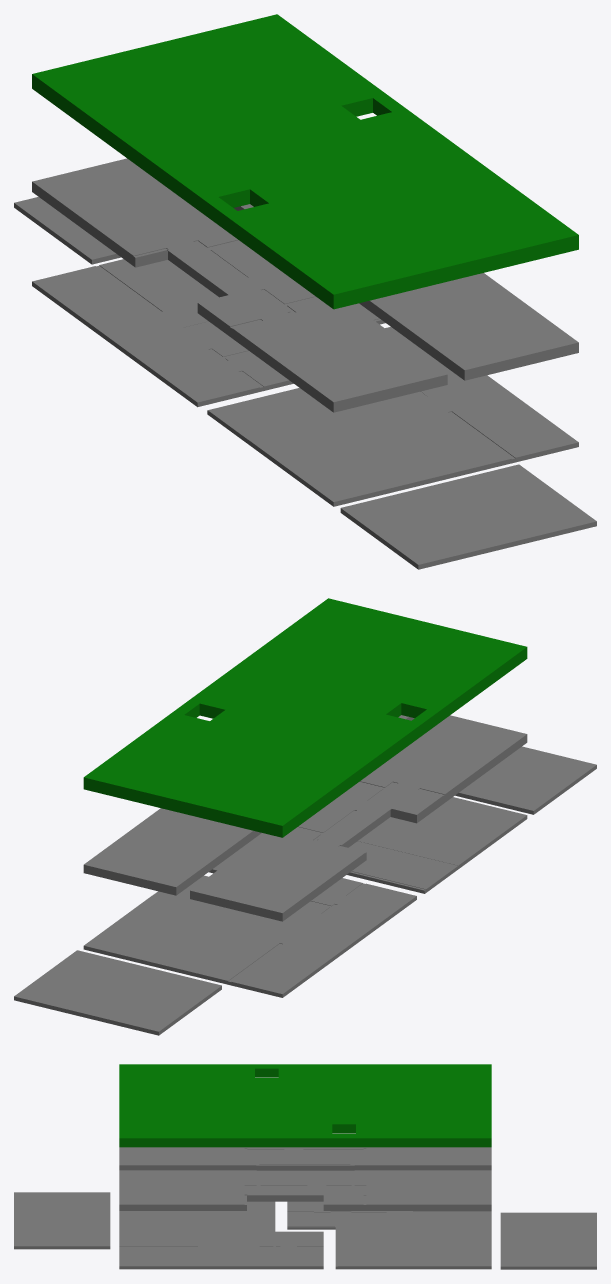
Rendered from IfcSlab.fbx.
3 renders of one model, top to bottom at view 1: azimuth 30°, elevation 25°; view 2: azimuth 150°, elevation 25°; view 3: azimuth 270°, elevation 25°, orthographic. The views are drawn at different scales.
Parts seen in each view (by area): view 1: Basic Roof:184483, Floor:170352, Floor:216552, Floor:171292, Floor:169354, Floor:169308, Floor:169093, Floor:144800, Floor:170785, Floor:169395, Floor:216507, Floor:169772 (+5 smaller); view 2: Basic Roof:184483, Floor:171292, Floor:216507, Floor:169093, Floor:169188, Floor:169354, Floor:170352, Floor:216552, Floor:144800, Floor:170785, Floor:169395, Floor:141232 (+5 smaller); view 3: Basic Roof:184483, Floor:170352, Floor:171292, Floor:216507, Floor:216552, Floor:169188, Floor:169308, Floor:144872, Floor:171444, Floor:144800, Floor:169093, Floor:169354 (+9 smaller).
Part boxes in pixels (left/top/right/bottom): Basic Roof:184483: left=32, top=14, right=578, bottom=309; Floor:170352: left=248, top=327, right=578, bottom=502; Floor:216552: left=340, top=464, right=596, bottom=569; Floor:171292: left=32, top=259, right=259, bottom=402; Floor:169354: left=232, top=298, right=447, bottom=402; Floor:169308: left=369, top=273, right=578, bottom=370; Floor:169093: left=32, top=158, right=238, bottom=256; Floor:144800: left=32, top=182, right=447, bottom=412; Floor:170785: left=209, top=388, right=426, bottom=440; Floor:169395: left=166, top=241, right=290, bottom=326; Floor:216507: left=14, top=197, right=120, bottom=264; Floor:169772: left=211, top=242, right=315, bottom=304; Basic Roof:184483: left=83, top=598, right=527, bottom=837; Floor:171292: left=84, top=883, right=416, bottom=994; Floor:216507: left=14, top=950, right=221, bottom=1035; Floor:169093: left=190, top=828, right=364, bottom=913; Floor:169188: left=84, top=808, right=253, bottom=887; Floor:169354: left=360, top=715, right=527, bottom=794; Floor:170352: left=212, top=797, right=527, bottom=870; Floor:216552: left=455, top=746, right=596, bottom=814; Floor:144800: left=190, top=735, right=527, bottom=921; Floor:170785: left=348, top=841, right=457, bottom=889; Floor:169395: left=317, top=783, right=442, bottom=846; Floor:141232: left=83, top=875, right=416, bottom=997; Basic Roof:184483: left=119, top=1064, right=491, bottom=1147; Floor:170352: left=119, top=1211, right=323, bottom=1266; Floor:171292: left=287, top=1201, right=491, bottom=1266; Floor:216507: left=500, top=1212, right=596, bottom=1269; Floor:216552: left=14, top=1192, right=110, bottom=1249; Floor:169188: left=354, top=1170, right=491, bottom=1204; Floor:169308: left=119, top=1170, right=256, bottom=1204; Floor:144872: left=119, top=1170, right=491, bottom=1210; Floor:171444: left=337, top=1212, right=386, bottom=1266; Floor:144800: left=119, top=1148, right=491, bottom=1170; Floor:169093: left=354, top=1147, right=491, bottom=1165; Floor:169354: left=119, top=1147, right=256, bottom=1165.
Size of the model in its own units: 8 by 26.57 by 6.59.
